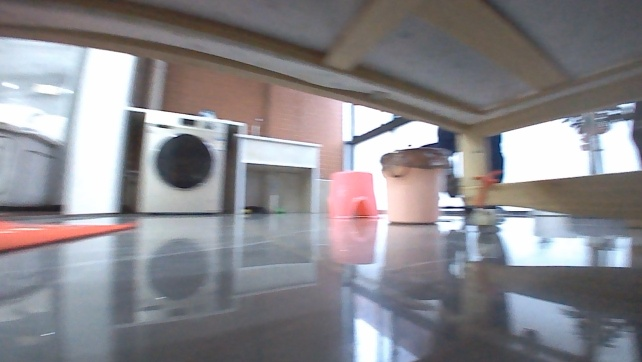blanket: (0, 215, 142, 256)
washing_machine: (133, 108, 233, 221)
